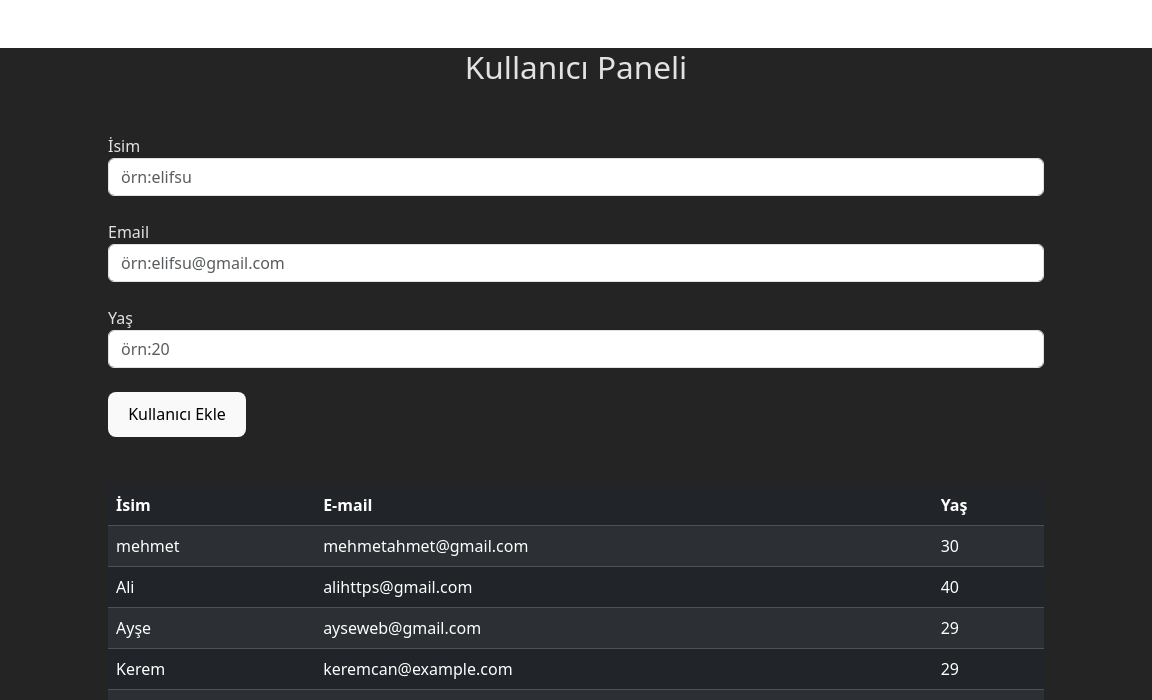
Test: Uygulam doğru şekilde çalışıyor mu?
// inputları doldur
Type "Elifsu" into the field labelled "İsim".
click(576, 177); type("Elifsu")  # box 108,158 -> 1044,196
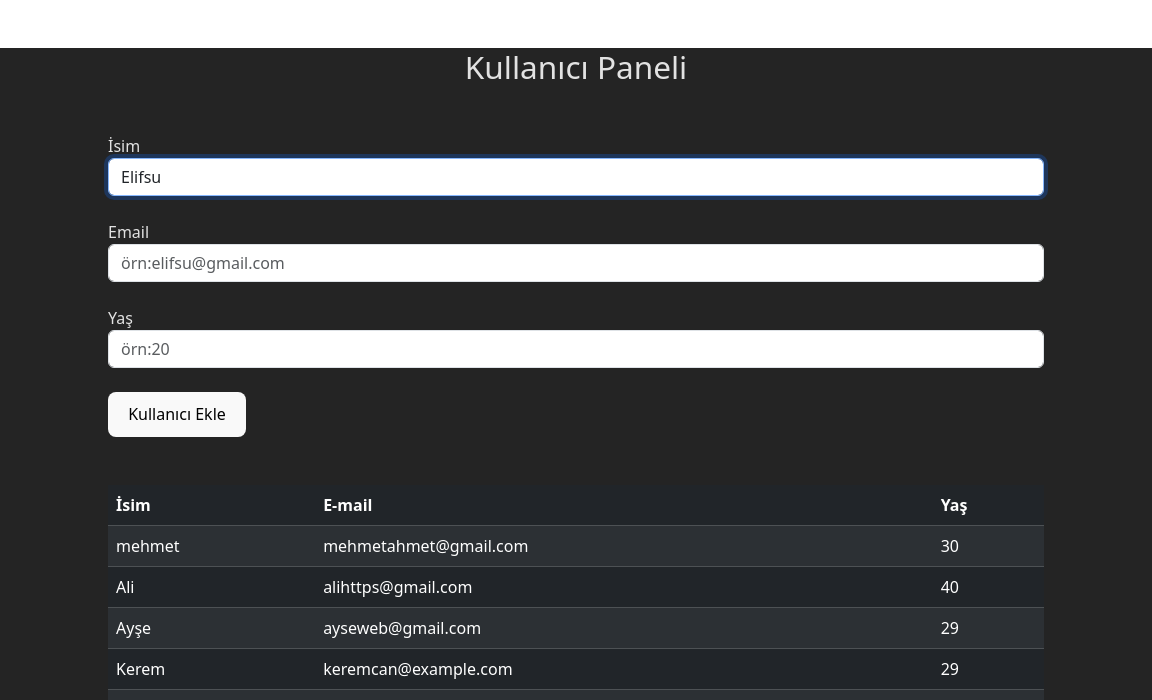
Type "elifsu@gmail.com" into the field labelled "Email".
click(576, 263); type("elifsu@gmail.com")  # box 108,244 -> 1044,282
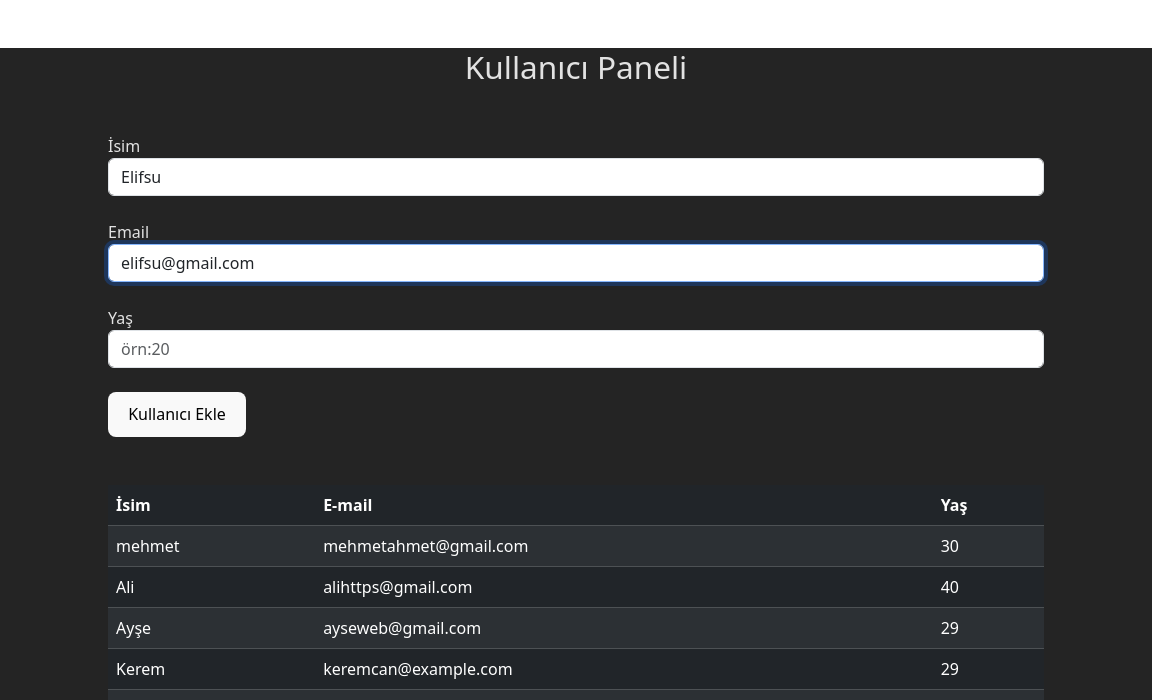
Type "20" into the number field with placeholder "örn:20".
click(576, 349); type("20")  # box 108,330 -> 1044,368
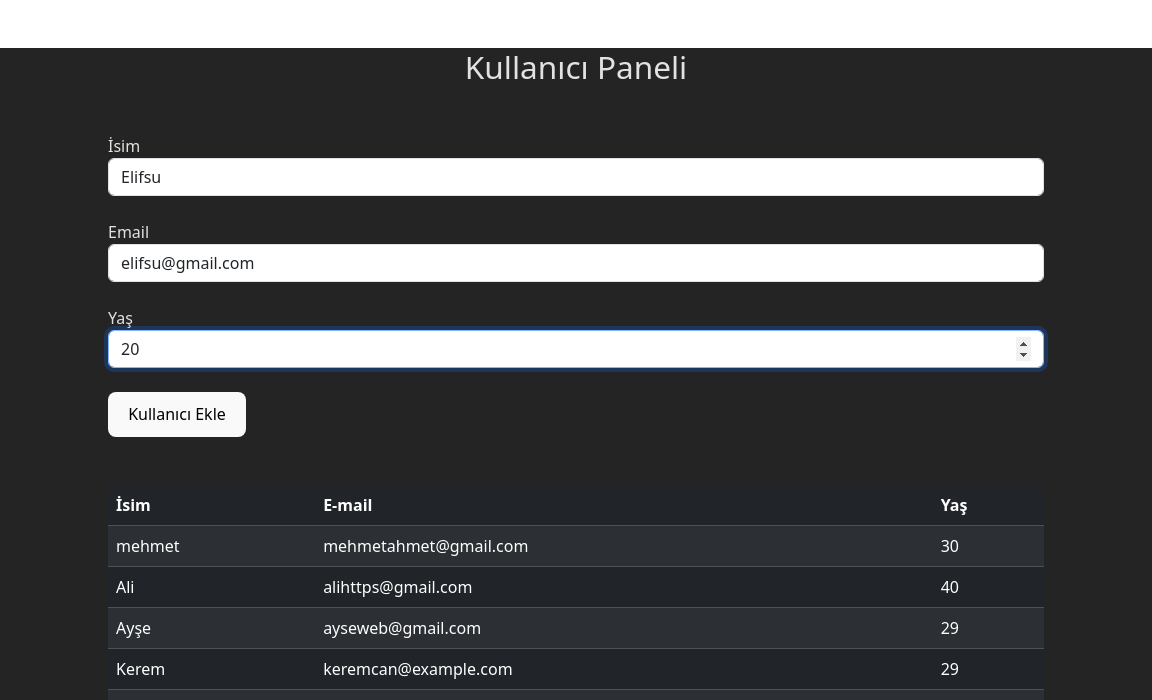
// Kullanıcı ekle butonuna tıkla
Click the button "Kullanıcı Ekle".
click(177, 414)  # box 108,392 -> 246,437
(page scrolled)
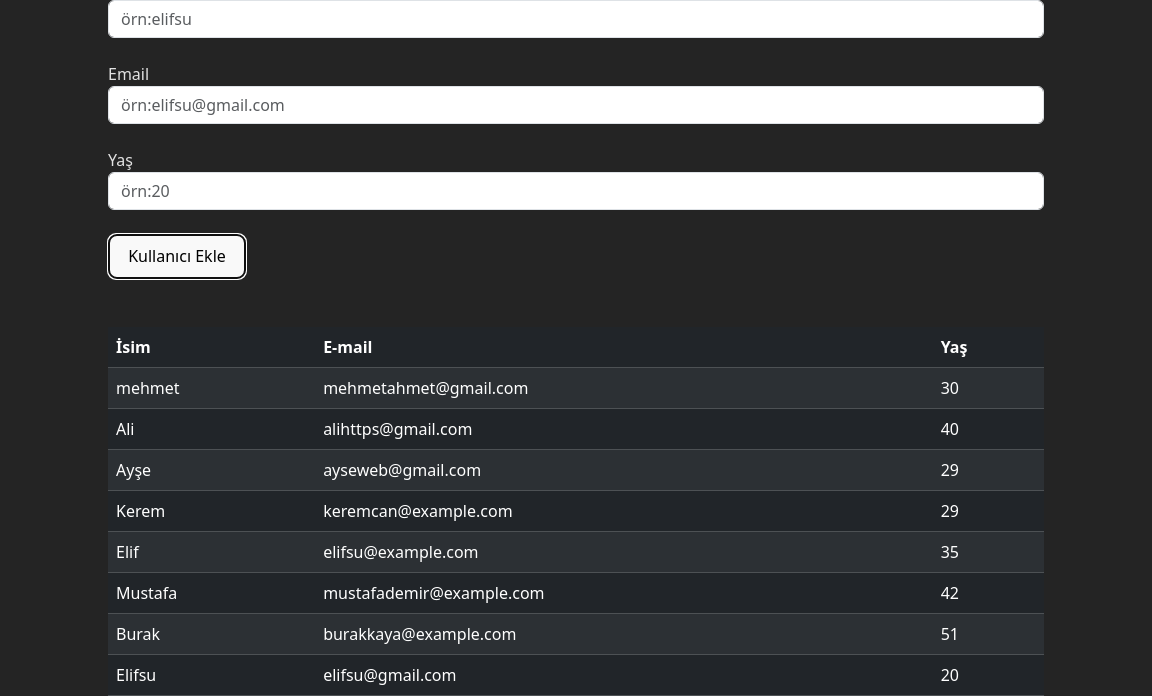
Expected: the cell "Elifsu" is shown, 108,655 -> 315,696
Expected: the cell "elifsu@gmail.com" is shown, 315,655 -> 933,696
Expected: the cell "20" is shown, 933,655 -> 1044,696
